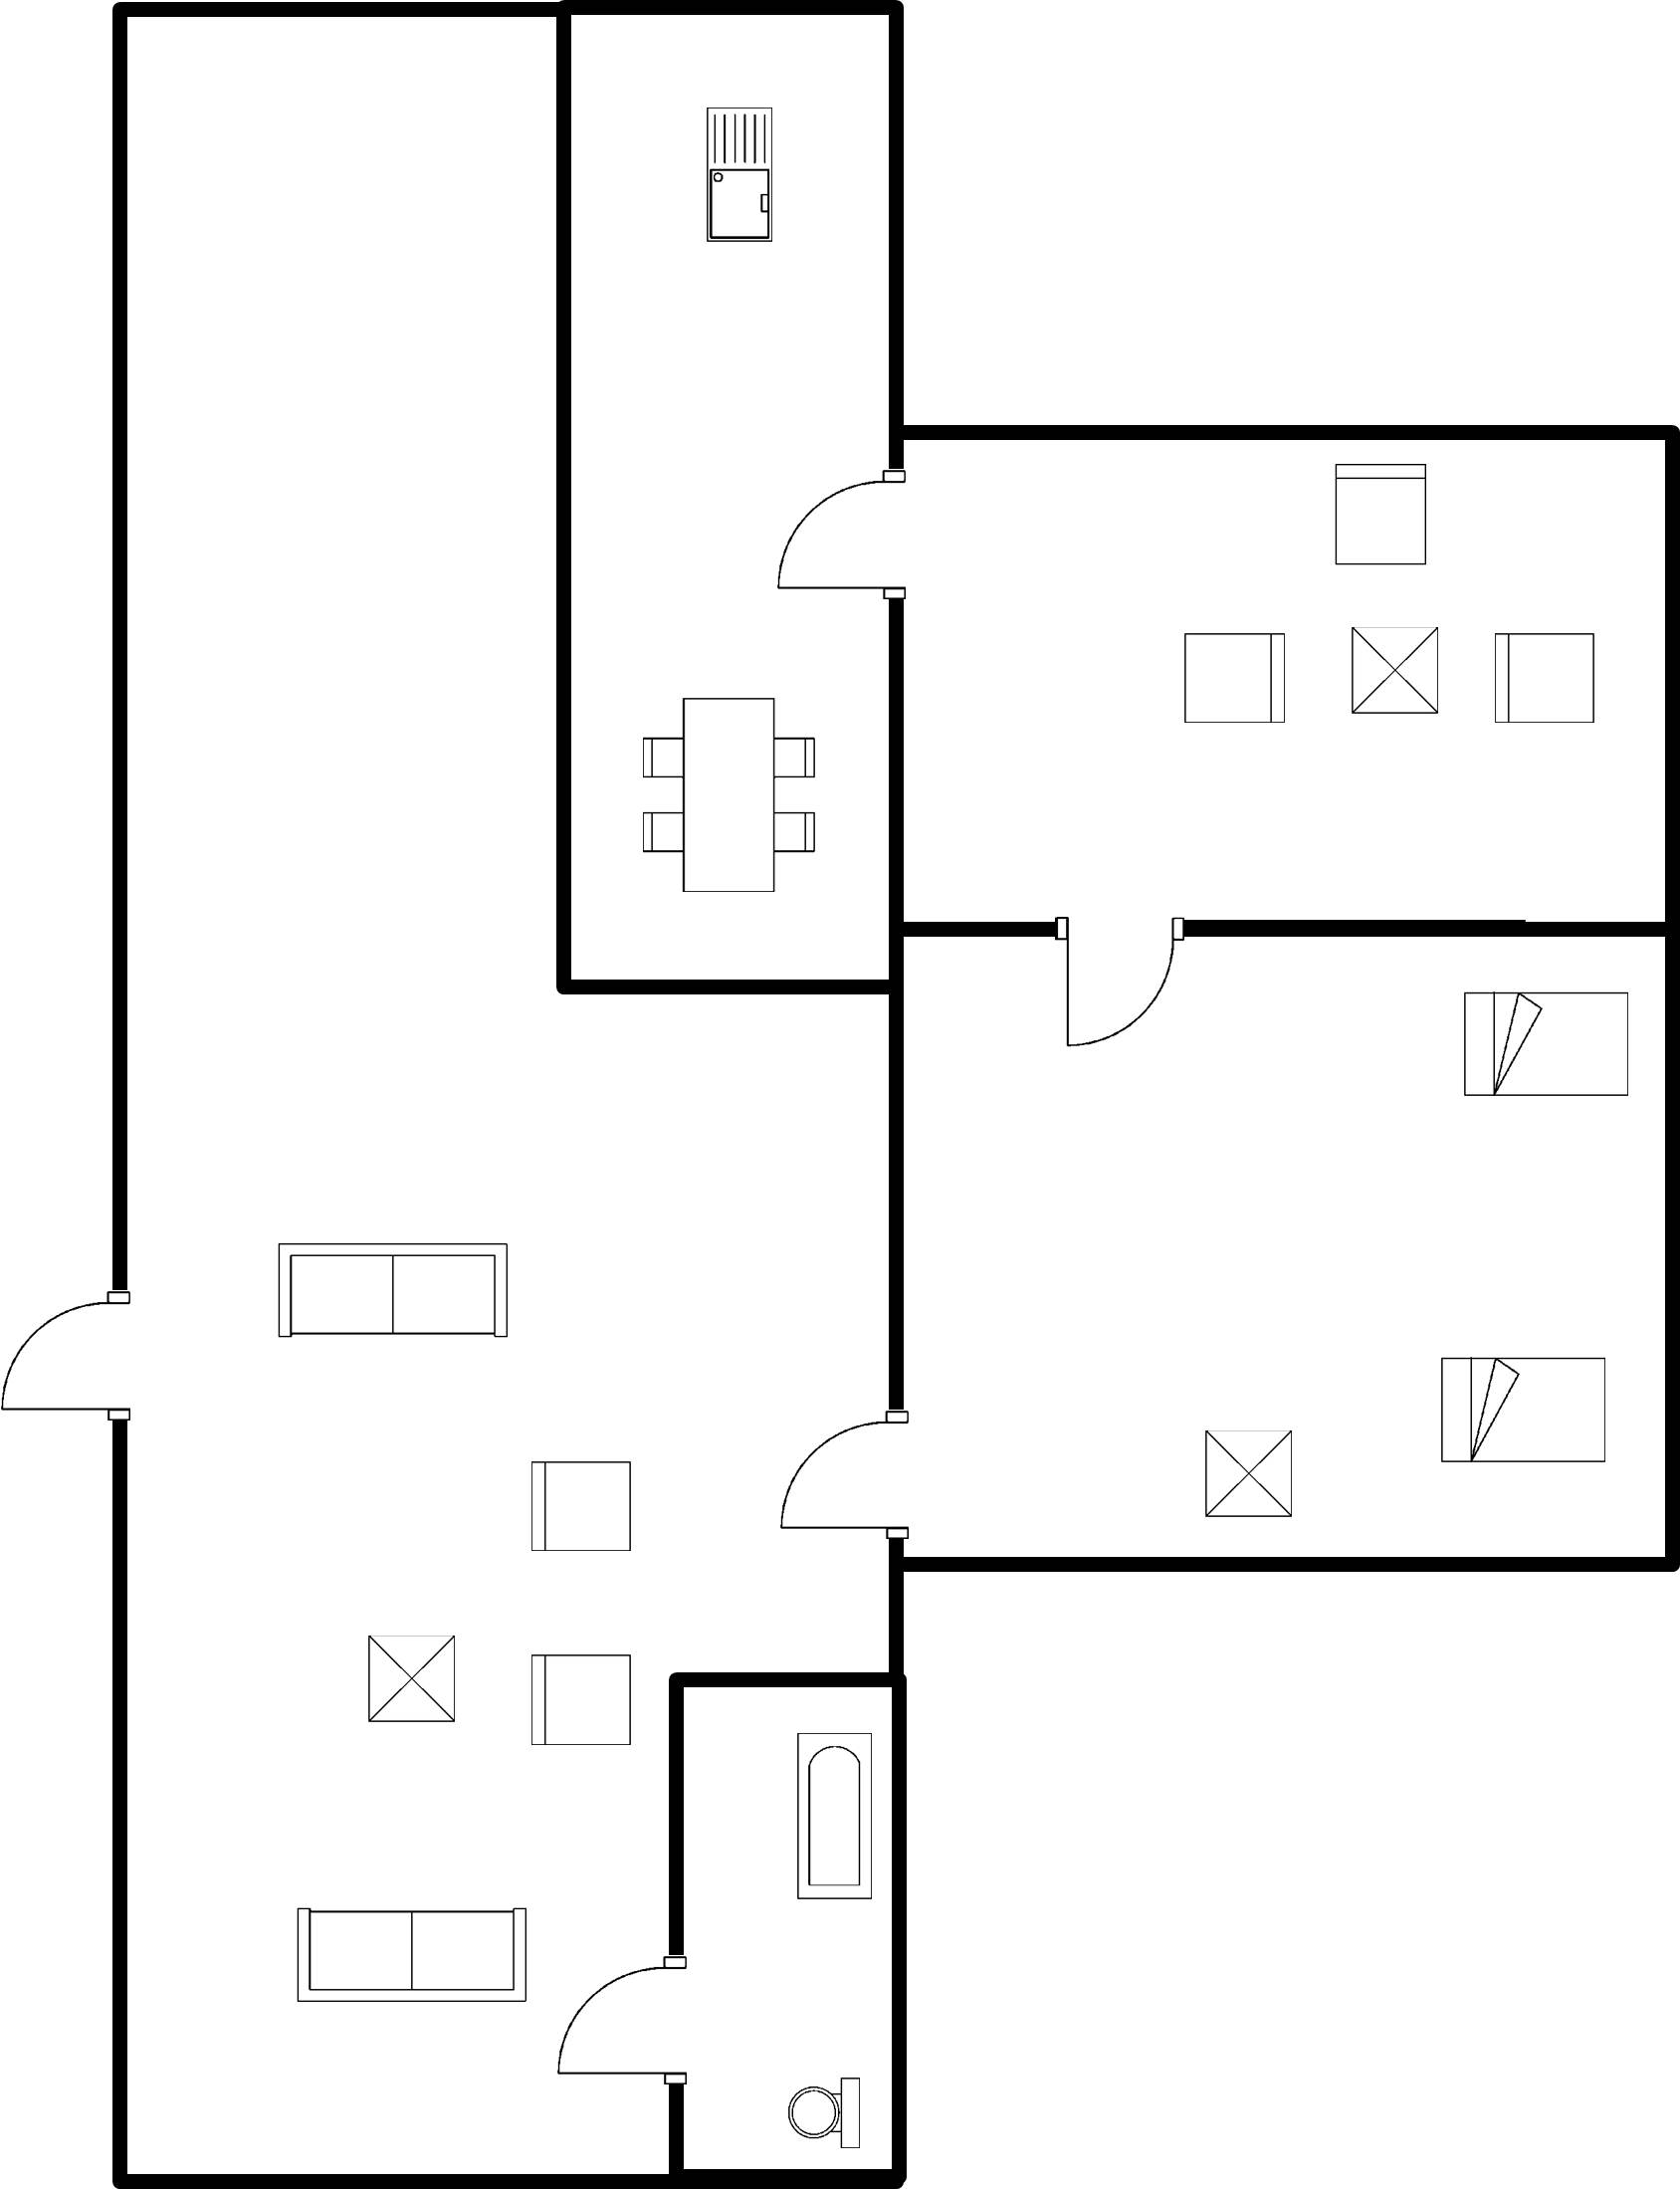bed: (1449, 973, 1643, 1111), (1423, 1345, 1628, 1474)
coffee_table: (1182, 1417, 1309, 1531), (349, 1620, 467, 1739), (1337, 613, 1451, 735)
dining_table: (625, 678, 834, 912)
large_sink: (774, 2059, 878, 2160)
large_sofa: (257, 1225, 523, 1356), (277, 1896, 542, 2016)
sink: (696, 97, 789, 256)
small_sofa: (513, 1444, 657, 1563), (1322, 449, 1447, 578), (1477, 617, 1607, 741), (1161, 622, 1295, 733), (517, 1643, 642, 1758)
tub: (778, 1723, 887, 1914)
